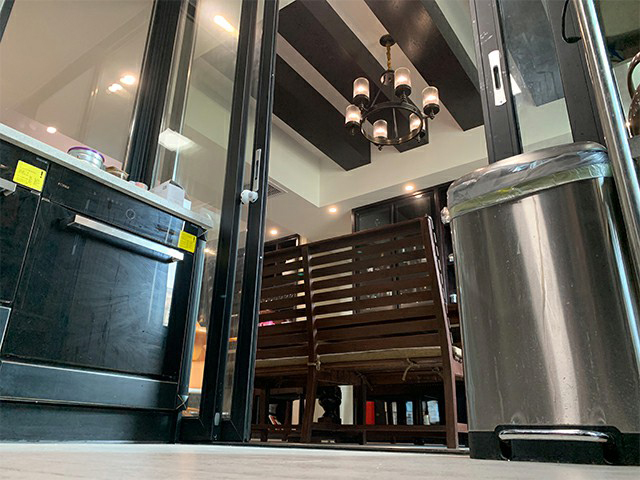cabinet: (1, 123, 213, 445)
stool: (303, 213, 467, 450), (228, 237, 338, 438)
trashcan: (447, 143, 640, 467)
